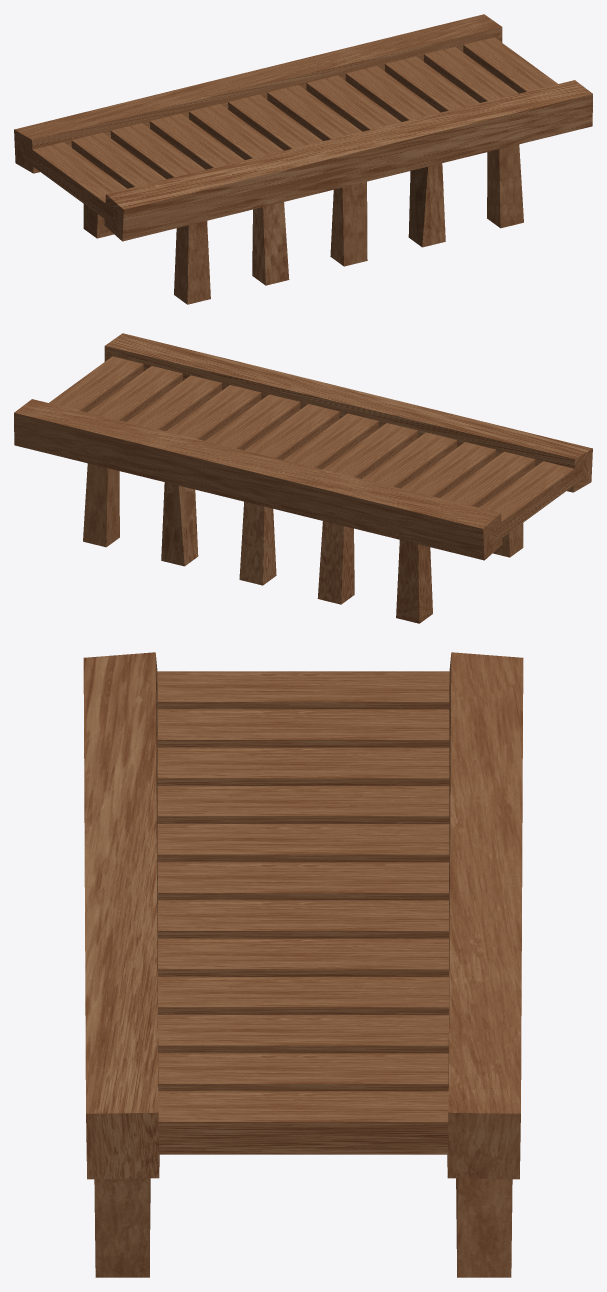
File: woodplatform.fbx
3 renders of one model, top to bottom at view 1: azimuth 30°, elevation 25°; view 2: azimuth 150°, elevation 25°; view 3: azimuth 270°, elevation 25°, orthographic. The views are drawn at different scales.
Visible parts, largest first — view 1: 큐브.005; view 2: 큐브.005; view 3: 큐브.005.
Boxes of the visible parts, box(x1,y1,x2,y2) form: 큐브.005: box(14, 14, 592, 304); 큐브.005: box(14, 333, 592, 623); 큐브.005: box(83, 652, 523, 1277).
Bounding box in the file's own units: 30 × 7.08 × 12.16.
Materials: 3 (3 with a texture image).
